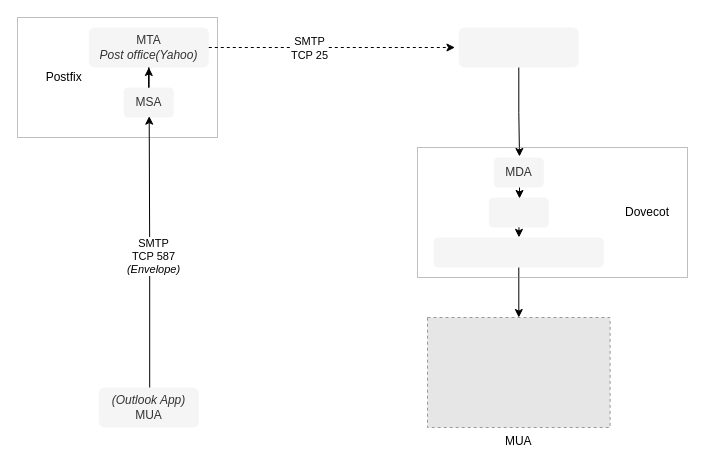
This 705x466 diagram has some shape labels left out. Grey dashed boxes stand in for pictures. The shapes that lost their labels are listed below. From the top down, each one's centre as x and y in pixels, then its label:
At [518,47]: "MTA Post office(Gmail)".
At [518,212]: "mailbox".
At [518,252]: "POP3 Server/IMAP Server".
